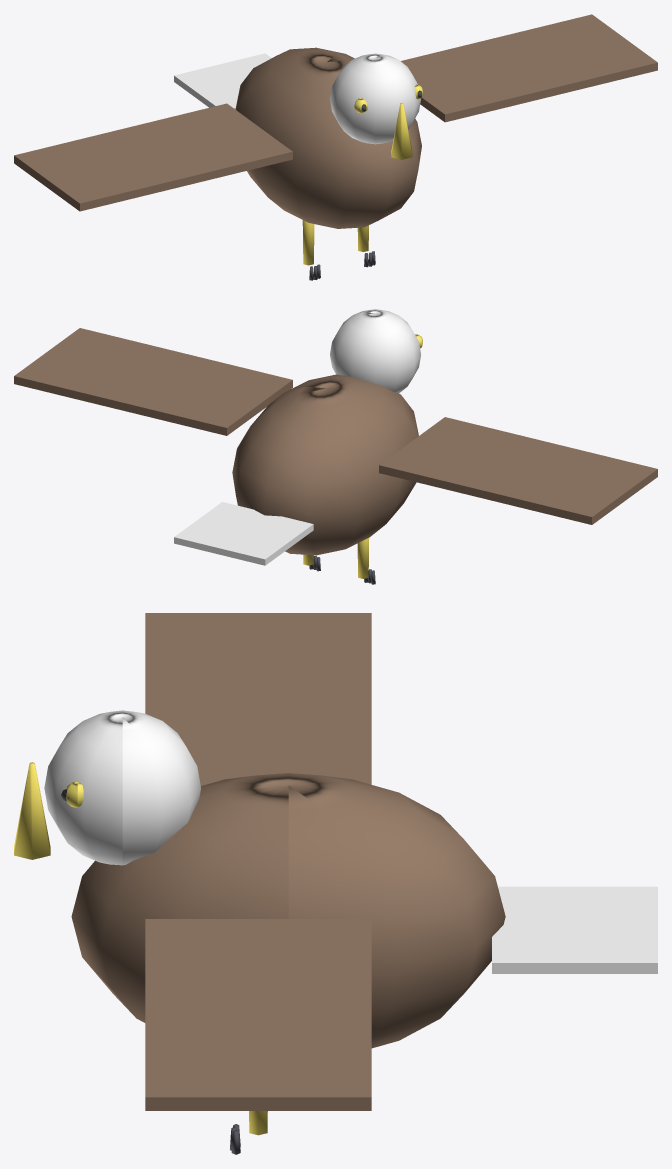
Rendered from 5dcb329a-aaf9-48ee-ae63-fe7d475f3dec.glb.
The picture shows the model from 3 angles, top to bottom: view 1: azimuth 30°, elevation 25°; view 2: azimuth 150°, elevation 25°; view 3: azimuth 270°, elevation 25°; orthographic projection. The views are drawn at different scales.
Visible parts, largest first — view 1: Generated3DMesh; view 2: Generated3DMesh; view 3: Generated3DMesh.
Part boxes in pixels (x1,y1,x2,y2): Generated3DMesh: (14,14,657,280); Generated3DMesh: (14,309,657,584); Generated3DMesh: (14,613,657,1154).
Size of the model in its own units: 3.8 by 1.5 by 2.14.
